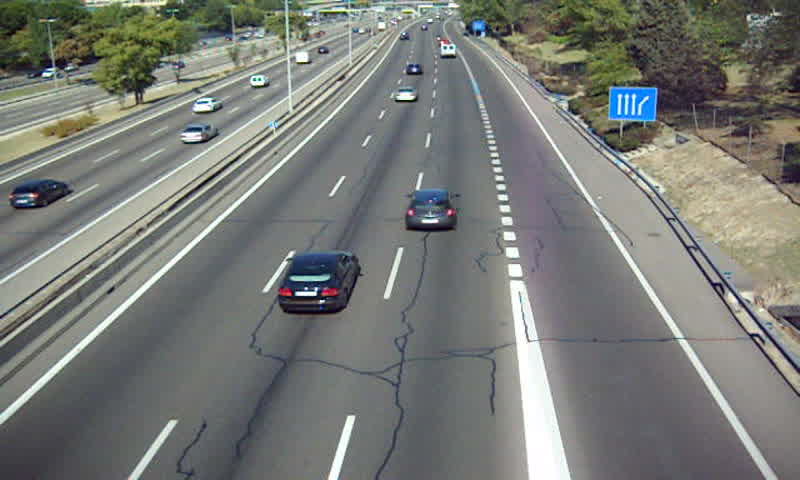car: (277, 251, 362, 313), (406, 190, 454, 230), (394, 86, 418, 102), (404, 63, 424, 79)
van: (440, 43, 457, 58)
